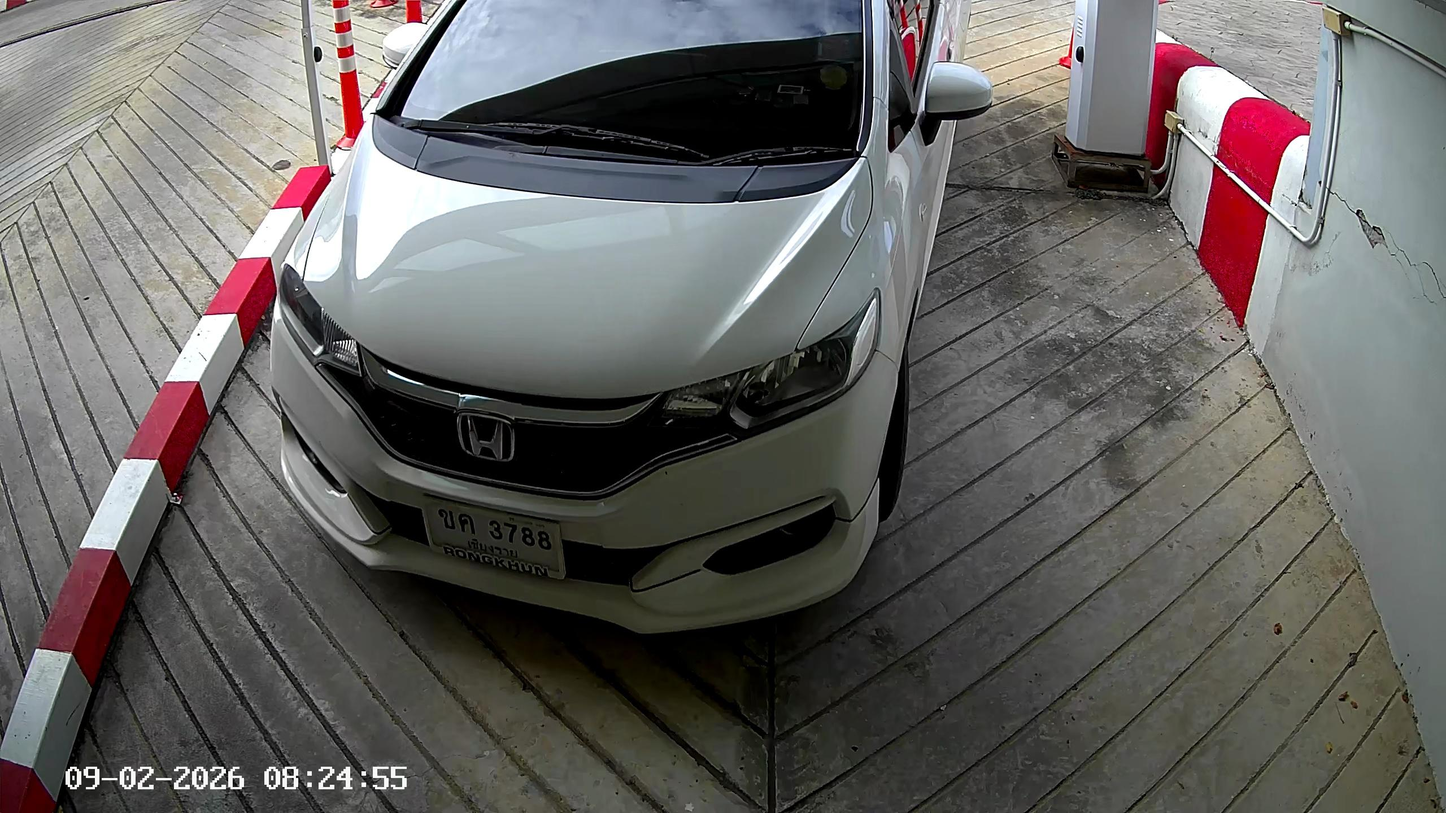car: (269, 4, 995, 639)
license-plate: (420, 485, 569, 587)
